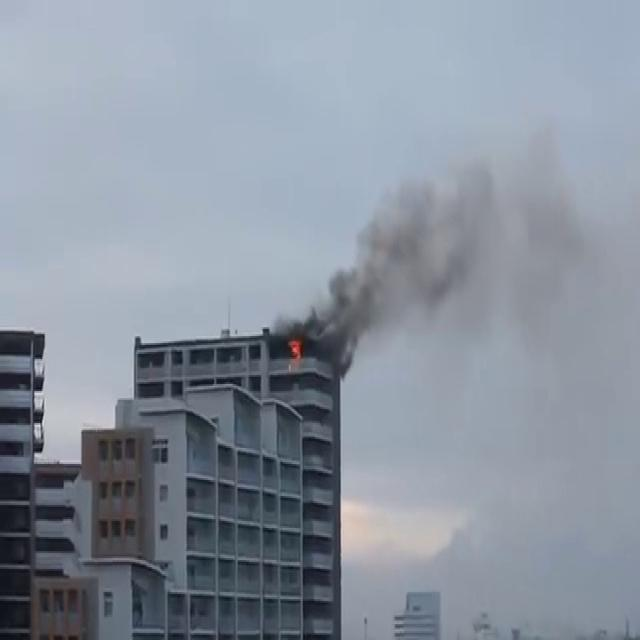Smoke: (296, 120, 591, 376)
